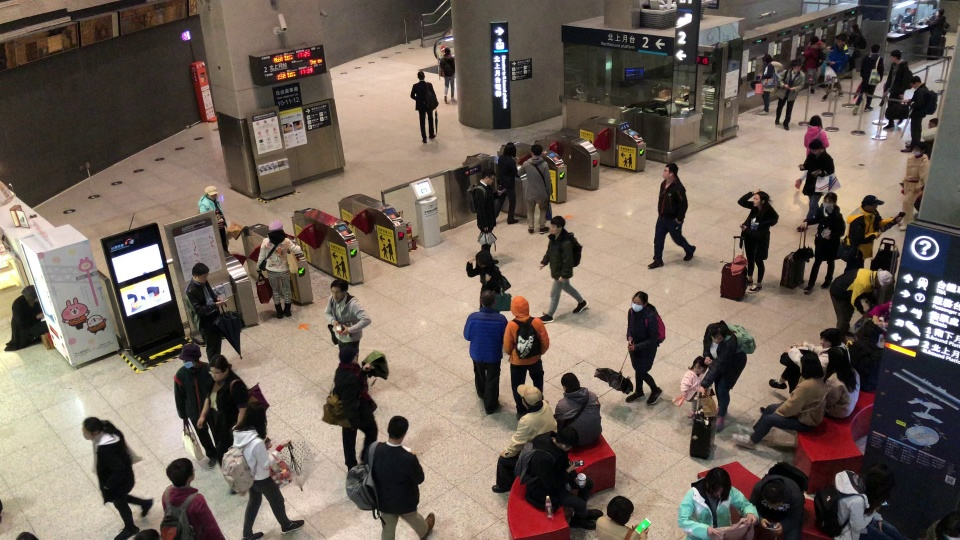person_head: (865, 462, 894, 502), (165, 457, 195, 487), (605, 495, 635, 524), (515, 383, 543, 412), (705, 467, 731, 496), (242, 401, 266, 432), (554, 426, 580, 452), (798, 353, 824, 378), (178, 342, 202, 369), (762, 480, 785, 508), (387, 415, 409, 444), (827, 346, 850, 373), (81, 417, 106, 440), (208, 354, 229, 381), (819, 327, 842, 349), (942, 514, 960, 539), (559, 371, 580, 392), (510, 295, 530, 317), (875, 268, 894, 290), (861, 194, 884, 212), (330, 278, 348, 300), (338, 346, 360, 364), (191, 262, 209, 283), (630, 290, 648, 311), (548, 214, 566, 234), (752, 190, 770, 208), (479, 288, 496, 306), (662, 162, 679, 180), (710, 324, 725, 344), (21, 285, 38, 302), (475, 251, 493, 267), (821, 191, 837, 209), (692, 355, 707, 374), (204, 185, 220, 201), (808, 138, 824, 154), (268, 219, 283, 236), (502, 141, 517, 158), (481, 169, 496, 185), (911, 140, 926, 156), (808, 114, 823, 129), (530, 143, 543, 156), (889, 49, 902, 62), (910, 75, 921, 89), (761, 53, 773, 64), (835, 34, 846, 46), (791, 59, 801, 71), (870, 44, 880, 54), (416, 70, 425, 80), (809, 35, 819, 44), (935, 7, 945, 16), (851, 23, 860, 32), (444, 46, 451, 55)
person_vbox: (343, 414, 436, 540), (220, 402, 304, 540), (514, 426, 604, 530), (732, 353, 827, 450), (81, 416, 154, 540), (758, 345, 861, 422), (490, 383, 557, 494), (320, 346, 378, 472), (813, 461, 901, 540), (701, 319, 756, 433), (677, 467, 760, 539), (503, 295, 550, 422), (462, 288, 508, 415), (538, 214, 589, 325), (196, 355, 249, 461), (646, 162, 696, 271), (173, 342, 216, 468), (767, 327, 851, 391), (161, 457, 226, 539), (838, 194, 903, 274), (828, 267, 894, 345), (747, 461, 809, 540), (735, 189, 780, 296), (625, 290, 666, 407), (799, 191, 846, 293), (255, 219, 301, 318), (183, 262, 226, 363), (794, 138, 836, 232), (552, 372, 603, 449), (465, 168, 505, 264), (324, 277, 372, 350), (517, 143, 552, 234), (3, 284, 49, 351), (899, 74, 938, 153), (897, 140, 930, 230), (465, 251, 511, 312), (794, 115, 830, 189), (850, 43, 885, 115), (882, 49, 912, 131), (595, 495, 649, 540), (678, 355, 716, 418), (774, 58, 806, 130), (198, 185, 230, 255), (409, 70, 439, 144), (820, 33, 850, 103), (496, 141, 520, 225), (801, 34, 826, 96), (757, 53, 781, 115), (841, 23, 867, 78), (439, 46, 455, 103), (924, 6, 951, 37)
